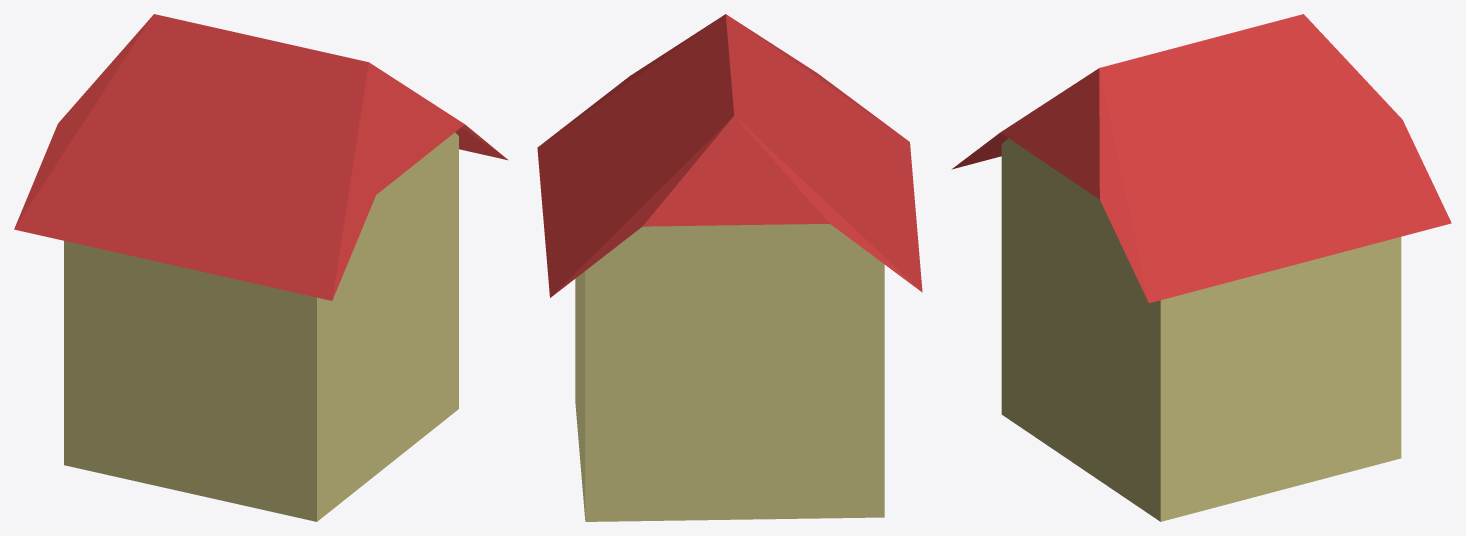
3 views of the same model, side by side, from view 1: azimuth 30°, elevation 25°; view 2: azimuth 150°, elevation 25°; view 3: azimuth 270°, elevation 25° (orthographic).
Parts seen in each view (by area): view 1: group_5, group_3, group_4; view 2: group_5, group_3, group_4; view 3: group_5, group_3, group_4.
Boxes of the visible parts, x1=… form: group_5: x1=64, y1=132, x2=458, y2=521; group_3: x1=14, y1=14, x2=508, y2=300; group_4: x1=14, y1=85, x2=507, y2=300; group_5: x1=575, y1=224, x2=884, y2=521; group_3: x1=540, y1=14, x2=921, y2=291; group_4: x1=537, y1=38, x2=922, y2=297; group_5: x1=1001, y1=138, x2=1401, y2=521; group_3: x1=953, y1=14, x2=1424, y2=302; group_4: x1=952, y1=73, x2=1451, y2=303.
Size of the model in its own units: 13.79 by 13.65 by 11.89.
